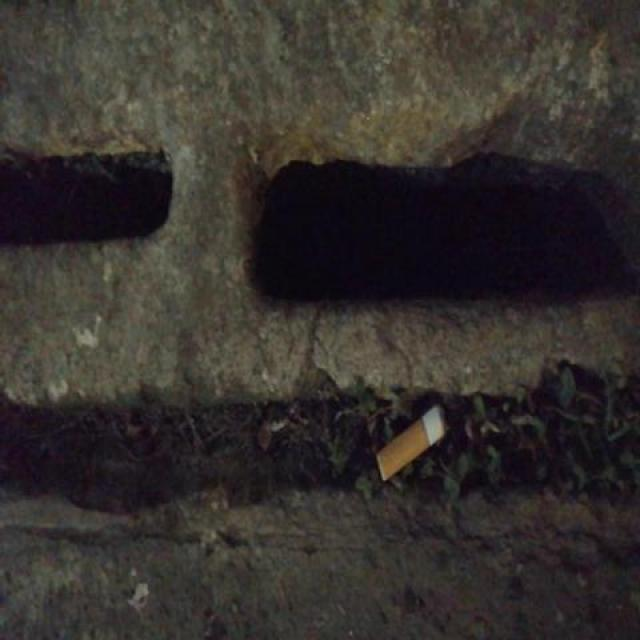non-organic waste: (369, 398, 455, 486)
